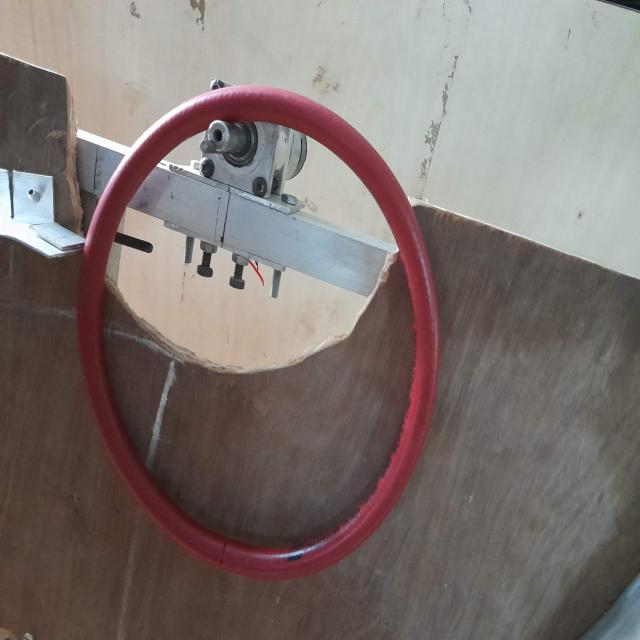daire: (81, 81, 442, 582)
